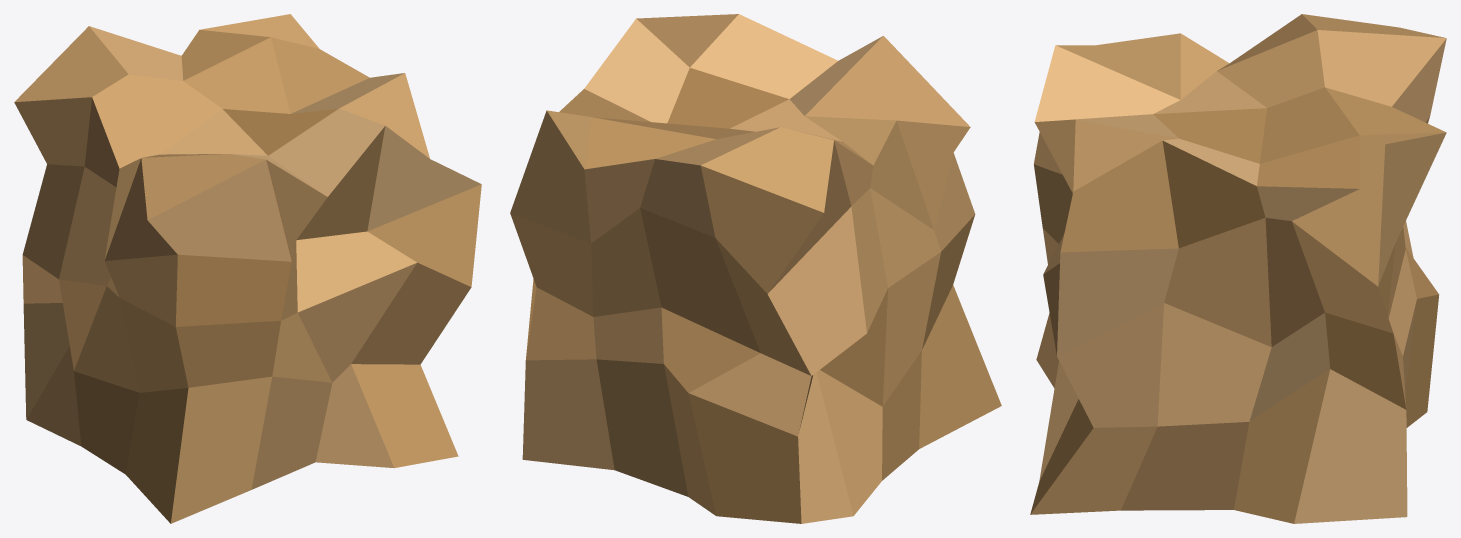
Rendered from Sandstone_c.fbx.
3 renders of one model, left to right at view 1: azimuth 30°, elevation 25°; view 2: azimuth 150°, elevation 25°; view 3: azimuth 270°, elevation 25°, orthographic. The views are drawn at different scales.
Parts seen in each view (by area): view 1: Sandstone_c; view 2: Sandstone_c; view 3: Sandstone_c.
Part boxes in pixels (left/top/right/bottom): Sandstone_c: left=14, top=14, right=481, bottom=523; Sandstone_c: left=510, top=14, right=1001, bottom=523; Sandstone_c: left=1030, top=14, right=1446, bottom=523.
Size of what is drawn, in the model's own units: 1 by 1 by 1.
